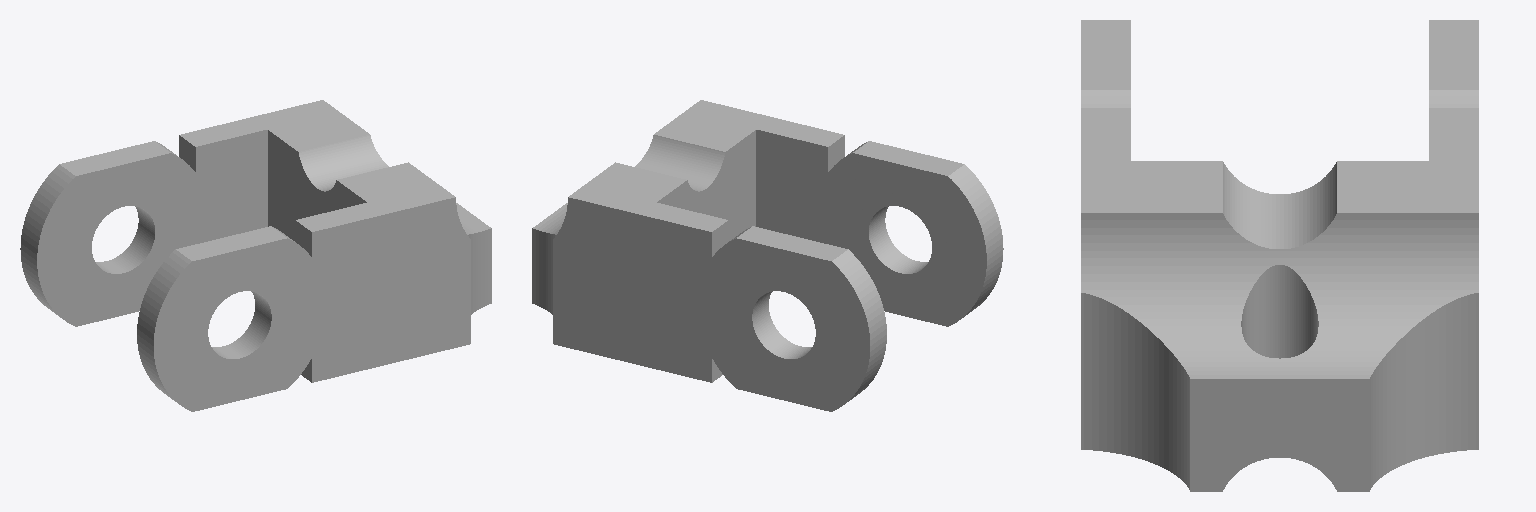
robot.urdf — root:
<?xml version='1.0' encoding='utf-8'?>
<robot name="root">
  <link name="link_001">
    <visual>
      <origin xyz="0 0 0" rpy="0 0 0" />
      <geometry>
        <mesh filename="bc9252f694e5b94f90f10af18c5f3a458877c8997be0f286fe7360e026091e34_scale_000.stl" scale="1.0000E+00 1.0000E+00 1.0000E+00" />
      </geometry>
      <material name="">
        <color rgba="7.50E-01 7.50E-01 7.50E-01 1" />
      </material>
    </visual>
    <collision>
      <origin xyz="0 0 0" rpy="0 0 0" />
      <geometry>
        <mesh filename="bc9252f694e5b94f90f10af18c5f3a458877c8997be0f286fe7360e026091e34_scale_000.stl" scale="1.0000E+00 1.0000E+00 1.0000E+00" />
      </geometry>
    </collision>
  </link>
</robot>

--- Render facts (derived) ---
Views: 3 orthographic renders of the robot side by side, from view 1: azimuth 30°, elevation 25°; view 2: azimuth 150°, elevation 25°; view 3: azimuth 270°, elevation 25°.
Model root with 1 links and 0 joints (none), rooted at link_001, posed all joints at 0.
Links seen in each view (by area): view 1: link_001; view 2: link_001; view 3: link_001.
Boxes of the visible links, x1,y1,x2,y2 form: link_001: (20, 100, 491, 411); link_001: (532, 100, 1003, 411); link_001: (1081, 20, 1478, 491).
Size in the robot's own frame: 0.12 by 0.0738 by 0.0461 metres.
1 mesh visuals loaded from 1 distinct referenced files (1 binary STL).
